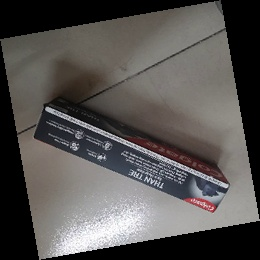Colgate Than: (31, 96, 231, 218)
